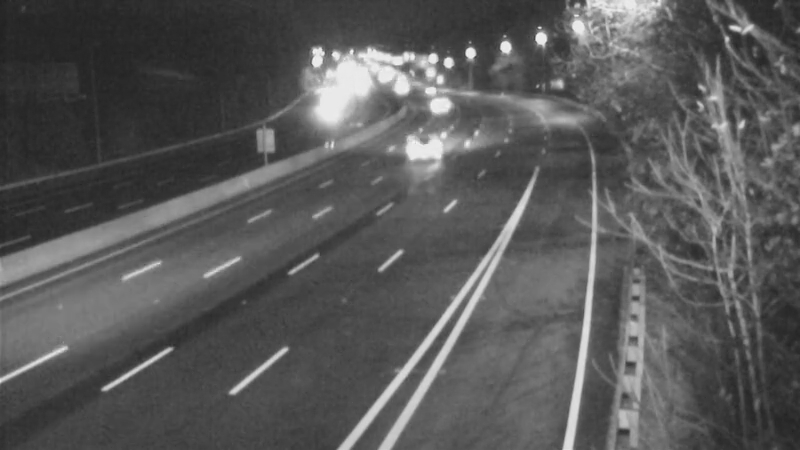vehicle: (408, 66, 458, 116), (415, 77, 465, 127), (400, 120, 450, 170)
